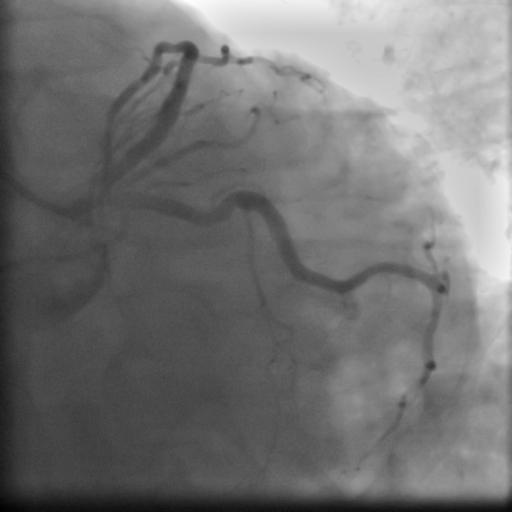Stenosis: (212, 196, 233, 217)
